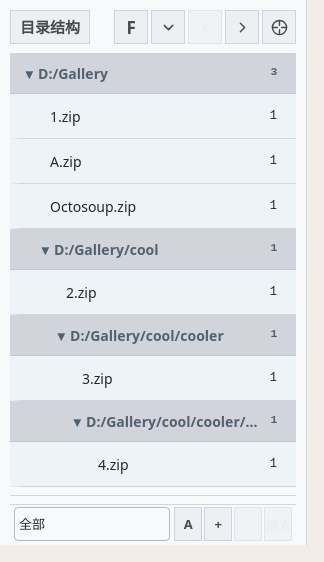
it: SidebarPanel image collapse interactions › 层级模式下折叠目录会隐藏整个子树
Double-click the button "▾ D:/Gallery 3" at (73, 73), box [10,53,296,93]
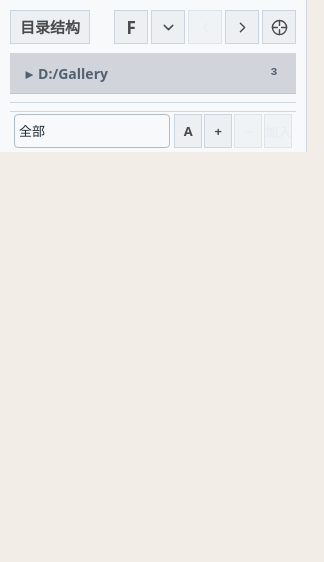
Result: the button "1.zip" is gone
Result: the button "A.zip" is gone
Result: the button "Octosoup.zip" is gone
